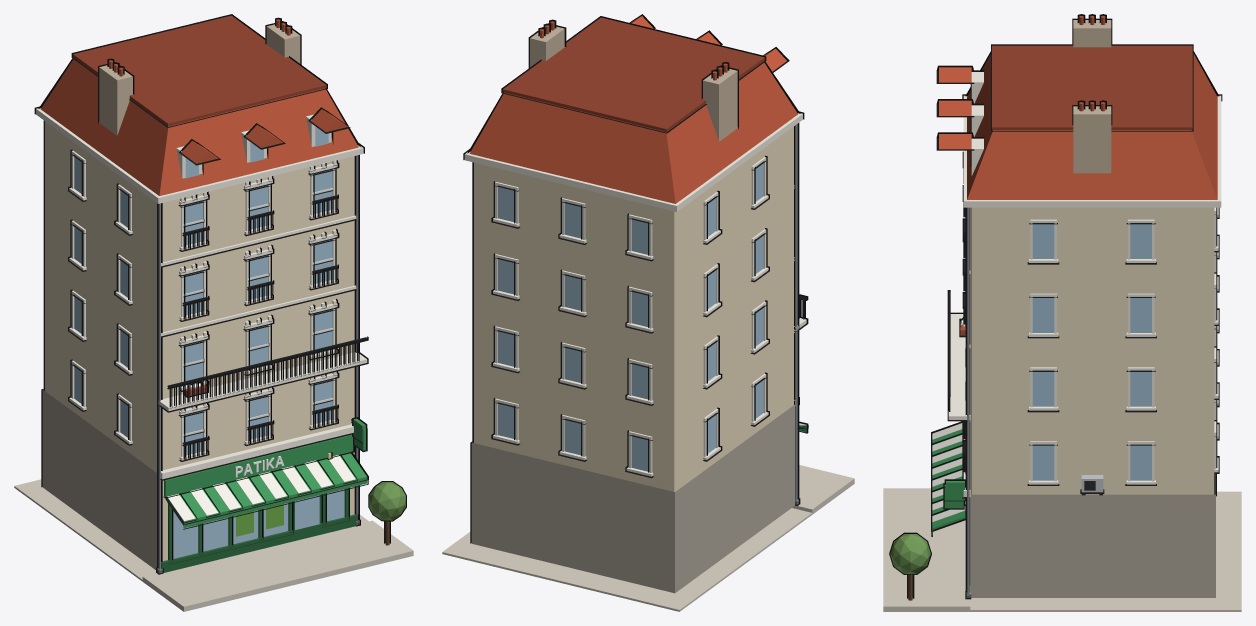
Rendered from Dukkan_genel_patika.fbx.
3 views of the same model, side by side, from view 1: azimuth 30°, elevation 25°; view 2: azimuth 150°, elevation 25°; view 3: azimuth 270°, elevation 25° (orthographic). The views are drawn at different scales.
Parts seen in each view (by area): view 1: Dukkan_genel_patika; view 2: Dukkan_genel_patika; view 3: Dukkan_genel_patika.
Boxes of the visible parts, box(x1,y1,x2,y2) form: Dukkan_genel_patika: box(14, 14, 413, 611); Dukkan_genel_patika: box(442, 14, 854, 611); Dukkan_genel_patika: box(883, 14, 1241, 611).
Bounding box in the file's own units: 10.51 × 20.06 × 13.19.
